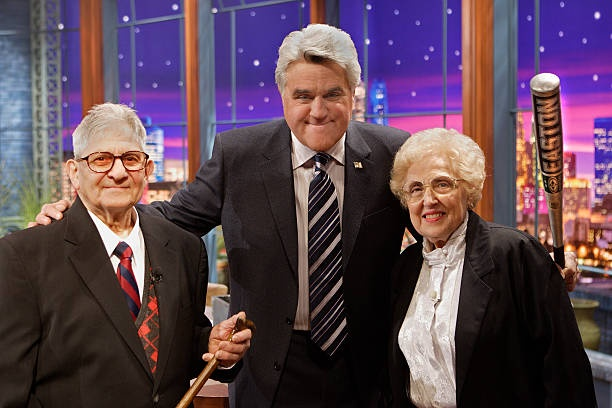bita: (527, 69, 572, 280)
